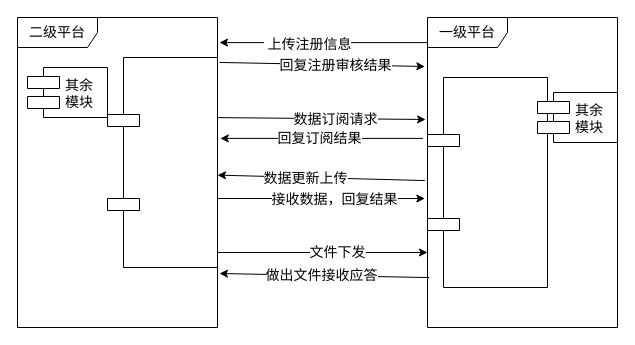
Image size: 635x345. Some labels were removed from this diagram. The shapes that lost their labels are listed below. From the top down, each one's centre as x and y in pixels, then its label:
At [162,162]: "渠道平台 管理模块".
At [487,182]: "与一级平台 通讯模块".
